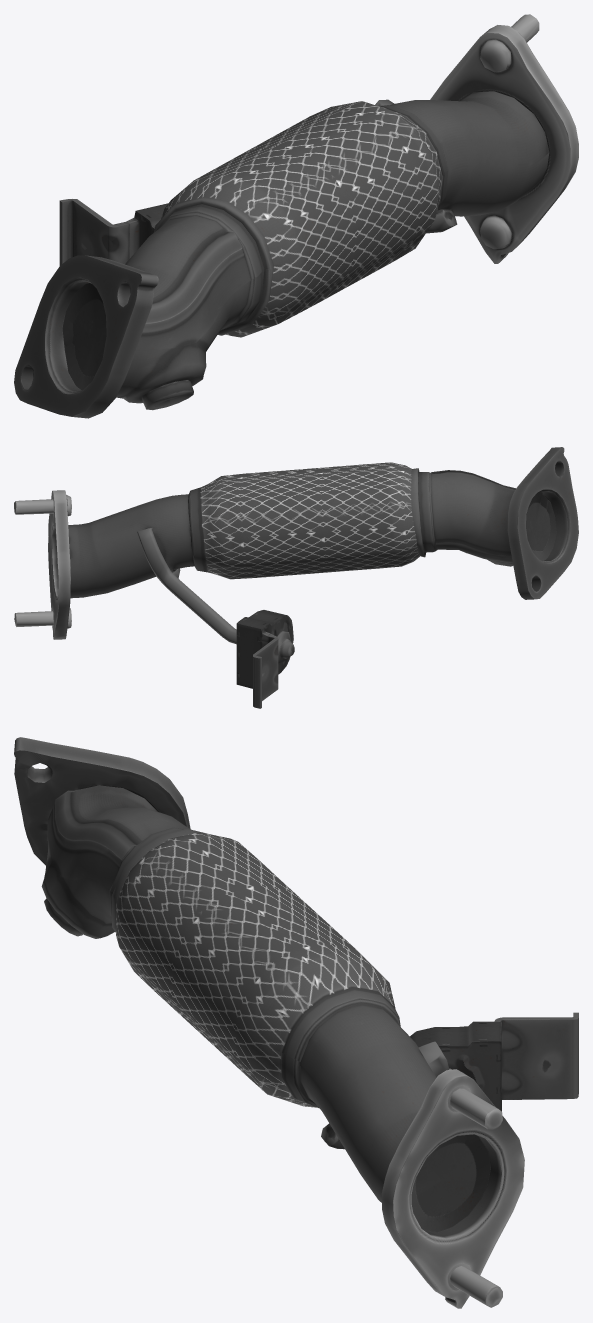
Rendered from Front_Muffler_Variant_1.obj.
The picture shows the model from 3 angles, top to bottom: view 1: azimuth 30°, elevation 25°; view 2: azimuth 150°, elevation 25°; view 3: azimuth 270°, elevation 25°; orthographic projection. The views are drawn at different scales.
Size of the model in its own units: 0.4072 by 0.1645 by 0.2942.
